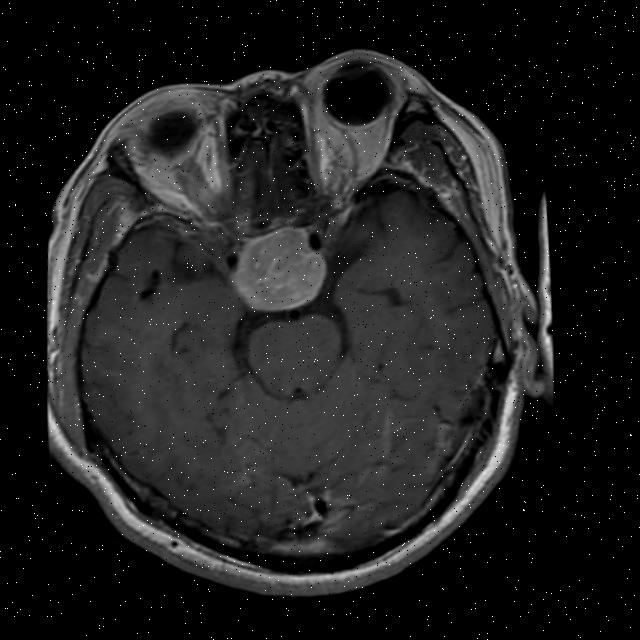Pituitary: (223, 221, 335, 316)
